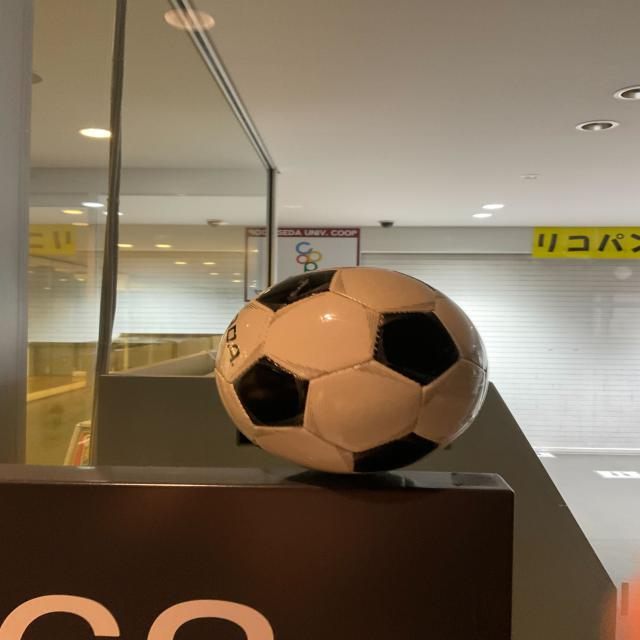ball: (221, 266, 488, 476)
